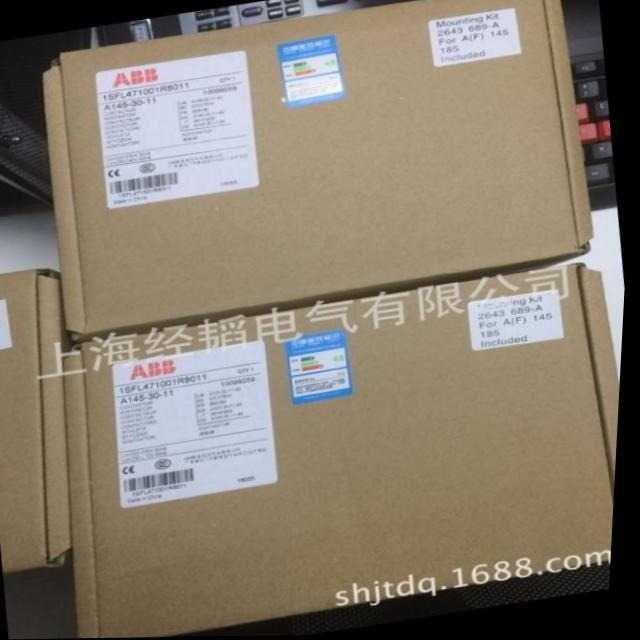box: (68, 264, 624, 639), (39, 0, 595, 345), (0, 266, 79, 577)
